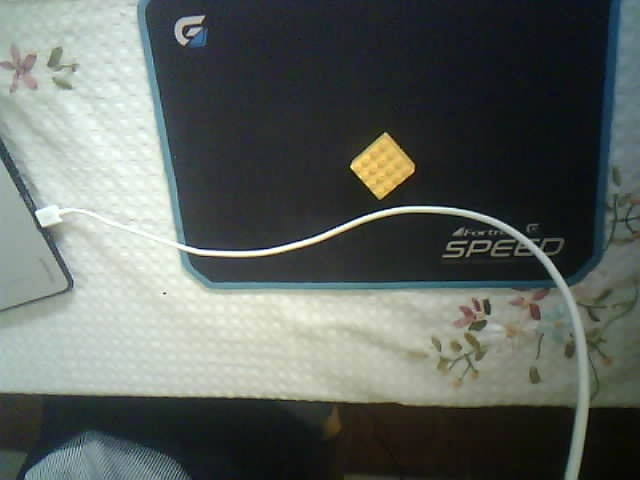lego: (349, 132, 415, 201)
